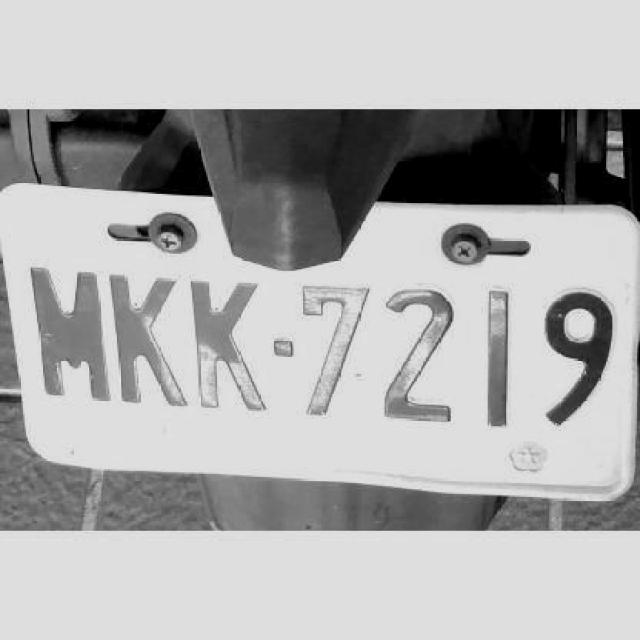-: (271, 334, 295, 354)
1: (488, 280, 512, 431)
2: (378, 282, 457, 426)
7: (298, 274, 374, 417)
9: (540, 289, 614, 428)
K: (185, 272, 268, 418), (103, 266, 182, 408)
M: (29, 266, 111, 402)
